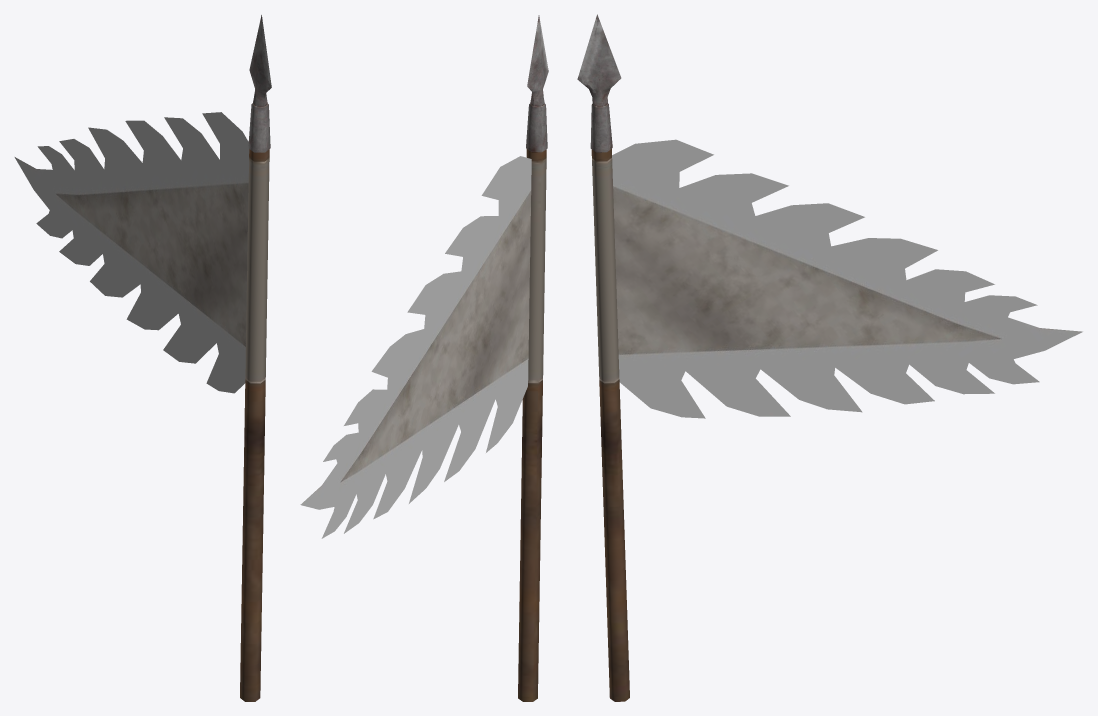
The model's file is flag-base.glb.
The picture shows the model from 3 angles, left to right: view 1: azimuth 30°, elevation 25°; view 2: azimuth 150°, elevation 25°; view 3: azimuth 270°, elevation 25°; orthographic projection. The views are drawn at different scales.
Size of the model in its own units: 0.0346 by 1.36 by 0.9107.
Materials: 1 (1 with a texture image).
